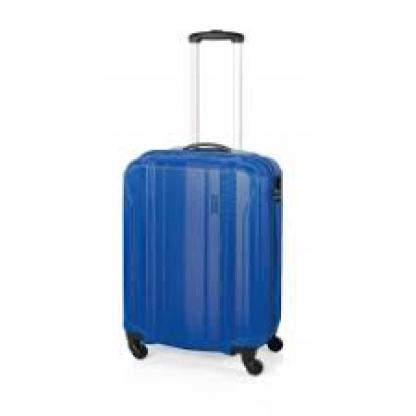maleta: (107, 140, 292, 381)
